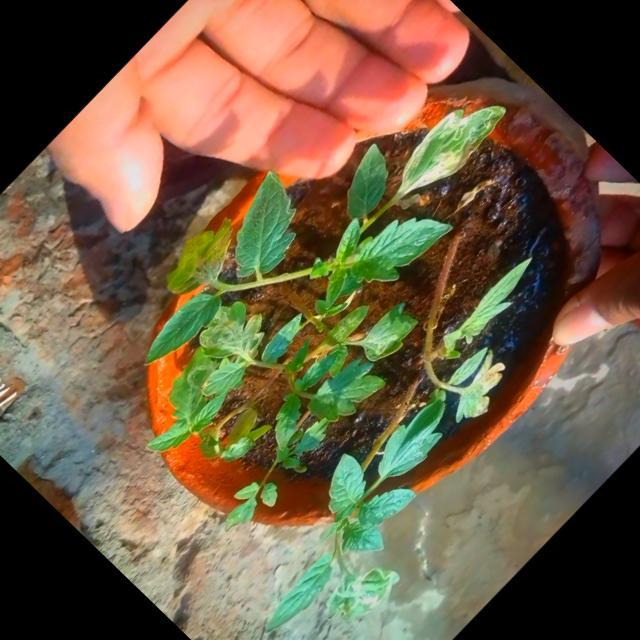Tomato healthy leaf: (198, 164, 326, 292), (342, 190, 457, 306), (129, 281, 229, 383), (300, 348, 390, 439), (254, 554, 342, 640), (322, 140, 408, 227), (301, 448, 382, 530), (352, 472, 419, 541), (252, 388, 319, 455), (330, 510, 393, 573), (186, 383, 239, 438), (143, 414, 195, 466), (294, 342, 344, 394)
Tomato target spot leaf: (152, 208, 252, 308), (186, 290, 280, 385), (314, 548, 404, 640), (353, 296, 428, 372), (317, 296, 375, 356)
